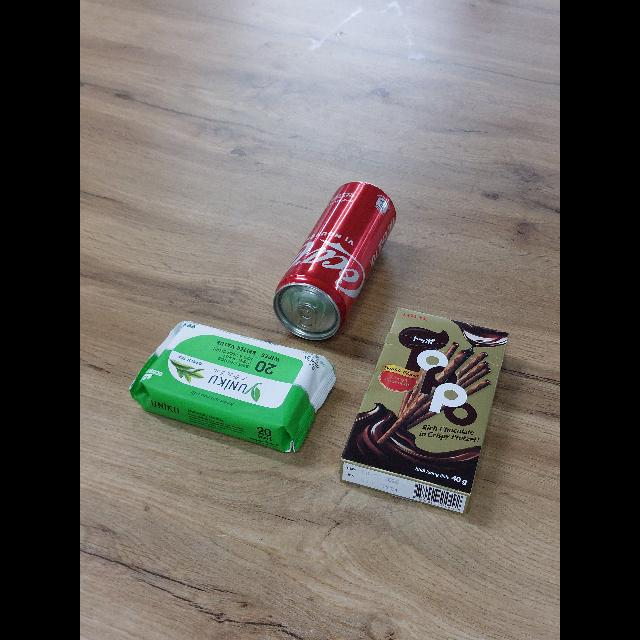banh_toppo_socola: (340, 308, 508, 514)
coca_cola: (273, 182, 396, 340)
khan_giay: (130, 321, 336, 453)
